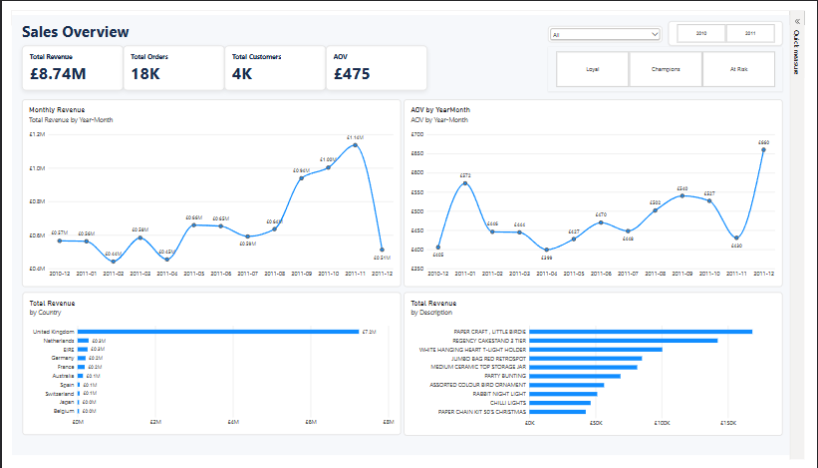

The page's visual inventory and layout, read from the dashboard file:
{"tool":"powerbi","page":{"name":"Sales OverView","canvas":[1920,1080],"ordinal":0},"visuals":[{"type":"slicer","fields":{"Values":["transactions.Country"]},"box":[1323.3,26.7,281.7,40],"z":0},{"type":"cardVisual","fields":{"Data":["transactions.Total Revenue"]},"box":[25,75,250,110],"z":1000},{"type":"lineChart","title":"Monthly Revenue","fields":{"Category":["Calendar.YearMonth"],"Y":["transactions.Total Revenue"]},"box":[25,206.7,935,460],"z":2000},{"type":"lineChart","fields":{"Category":["Calendar.YearMonth"],"Y":["transactions.AOV"]},"box":[966.7,206.7,935,460],"z":3000},{"type":"barChart","fields":{"Category":["transactions.Country"],"Y":["transactions.Total Revenue"]},"box":[25.7,680,934.3,350],"z":4000},{"type":"barChart","fields":{"Category":["transactions.Description"],"Y":["transactions.Total Revenue"]},"box":[966.7,680,935,351.7],"z":5000},{"type":"slicer","fields":{"Values":["Calendar.Year"]},"box":[1620,15,281.7,60],"z":6000},{"type":"cardVisual","fields":{"Data":["transactions.Total Orders"]},"box":[275,75,250,110],"z":7000},{"type":"cardVisual","fields":{"Data":["transactions.Total Customers"]},"box":[525,75,250,110],"z":8000},{"type":"cardVisual","fields":{"Data":["transactions.AOV"]},"box":[775,75,250,110],"z":9000},{"type":"textbox","box":[25,15,275,63.3],"z":10000},{"type":"slicer","fields":{"Values":["rfm.Segment"]},"box":[1323.3,78.3,578.3,110],"z":11000}]}

Visuals, with their boxes in screenshot pixels (x1, y1, x2, y2), scaled from the page's 1920x1080 canvas onto the 818x468 screenshot:
slicer - transactions.Country: Rect(564, 12, 684, 29)
cardVisual - transactions.Total Revenue: Rect(11, 32, 117, 80)
"Monthly Revenue" lineChart: Rect(11, 90, 409, 289)
lineChart - Calendar.YearMonth x transactions.AOV: Rect(412, 90, 810, 289)
barChart - transactions.Country x transactions.Total Revenue: Rect(11, 295, 409, 446)
barChart - transactions.Description x transactions.Total Revenue: Rect(412, 295, 810, 447)
slicer - Calendar.Year: Rect(690, 6, 810, 32)
cardVisual - transactions.Total Orders: Rect(117, 32, 224, 80)
cardVisual - transactions.Total Customers: Rect(224, 32, 330, 80)
cardVisual - transactions.AOV: Rect(330, 32, 437, 80)
textbox: Rect(11, 6, 128, 34)
slicer - rfm.Segment: Rect(564, 34, 810, 82)
